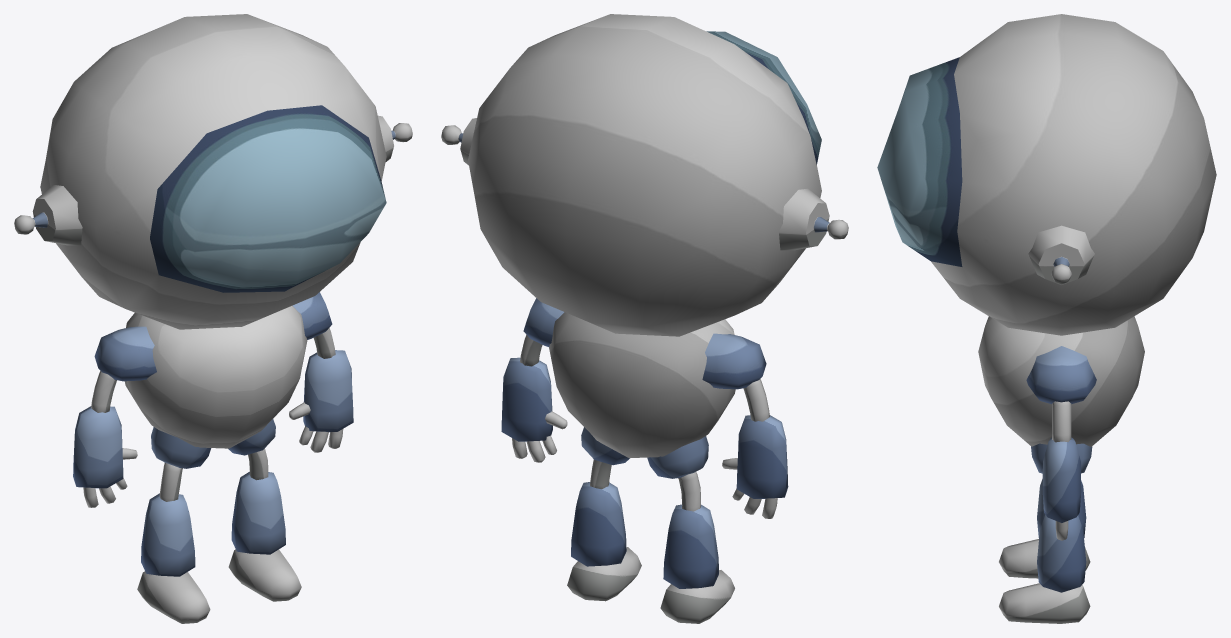
File: robo.glb
3 renders of one model, left to right at view 1: azimuth 30°, elevation 25°; view 2: azimuth 150°, elevation 25°; view 3: azimuth 270°, elevation 25°, orthographic. The views are drawn at different scales.
Parts seen in each view (by area): view 1: Cube_001; view 2: Cube_001; view 3: Cube_001.
Boxes of the visible parts, bbox=[...] form: Cube_001: bbox=[14, 14, 412, 623]; Cube_001: bbox=[441, 14, 848, 623]; Cube_001: bbox=[877, 14, 1216, 623].
Bounding box in the file's own units: 788 × 1064 × 585.
1 material, 1 textured.
